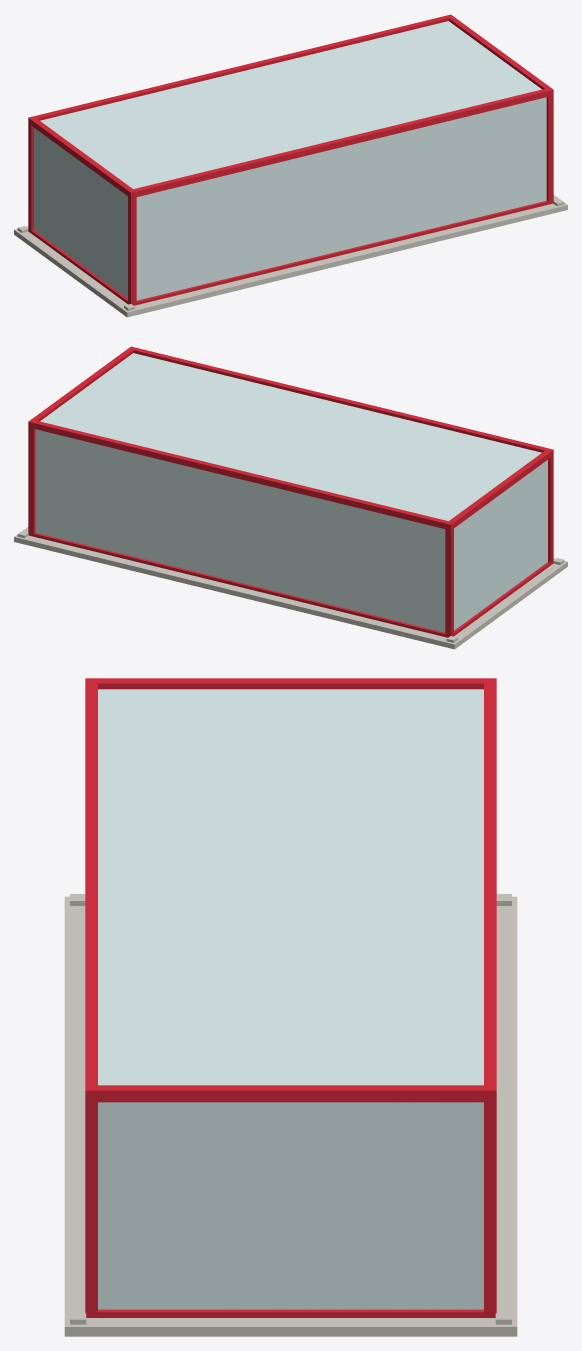
The model's file is lamborghini-essenza-scv12.glb.
3 renders of one model, top to bottom at view 1: azimuth 30°, elevation 25°; view 2: azimuth 150°, elevation 25°; view 3: azimuth 270°, elevation 25°, orthographic. The views are drawn at different scales.
Bounding box in the file's own units: 0.562 × 0.1445 × 0.25.
